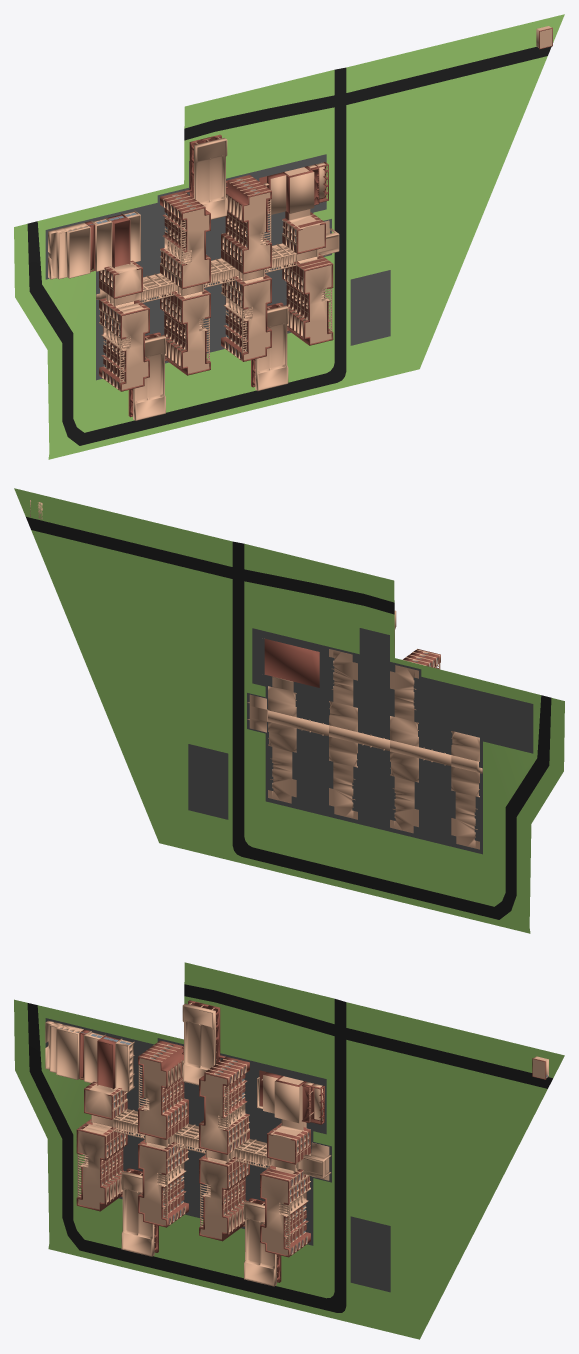
File: hall13.glb
3 renders of one model, top to bottom at view 1: azimuth 30°, elevation 25°; view 2: azimuth 150°, elevation 25°; view 3: azimuth 330°, elevation 25°, orthographic.
Visible parts, largest first — view 1: Base.002_Material.020, Base.002_Material.011, Base.002_Material.021, Base.002_Material.010, Base.002_Material.019, Base.002_Generic.002, Base.002_Generic, Base.002_Material.001, Base.002_Generic_2.002, Base.002_Material.009, Base.002_Generic_1, Base.002_Wallpaper_-_Victorian (+1 smaller); view 2: Base.002_Material.020, Base.002_Material.019, Base.002_Material.021, Base.002_Material.011, Base.002_Material.001, Base.002_Generic.003; view 3: Base.002_Material.020, Base.002_Material.011, Base.002_Material.021, Base.002_Material.010, Base.002_Material.019, Base.002_Generic.002, Base.002_Material.001, Base.002_Generic, Base.002_Generic_2.002, Base.002_Material.009, Base.002_Generic_1, Base.002_Wallpaper_-_Victorian (+2 smaller).
Part boxes in pixels (left/top/right/bottom): Base.002_Material.020: left=14, top=14, right=564, bottom=459; Base.002_Material.011: left=99, top=177, right=332, bottom=390; Base.002_Material.021: left=27, top=46, right=551, bottom=445; Base.002_Material.010: left=99, top=175, right=333, bottom=391; Base.002_Material.019: left=45, top=154, right=390, bottom=380; Base.002_Generic.002: left=132, top=137, right=288, bottom=420; Base.002_Generic: left=48, top=210, right=140, bottom=279; Base.002_Material.001: left=96, top=26, right=552, bottom=306; Base.002_Generic_2.002: left=264, top=172, right=314, bottom=214; Base.002_Material.009: left=68, top=179, right=307, bottom=387; Base.002_Generic_1: left=106, top=213, right=130, bottom=268; Base.002_Wallpaper_-_Victorian: left=128, top=134, right=289, bottom=417; Base.002_Material.020: left=14, top=488, right=564, bottom=933; Base.002_Material.019: left=188, top=628, right=533, bottom=854; Base.002_Material.021: left=26, top=517, right=551, bottom=919; Base.002_Material.011: left=268, top=649, right=479, bottom=849; Base.002_Material.001: left=30, top=500, right=482, bottom=773; Base.002_Generic.003: left=264, top=638, right=319, bottom=687; Base.002_Material.020: left=14, top=962, right=564, bottom=1339; Base.002_Material.011: left=77, top=1043, right=310, bottom=1256; Base.002_Material.021: left=27, top=984, right=552, bottom=1312; Base.002_Material.010: left=76, top=1040, right=310, bottom=1257; Base.002_Material.019: left=45, top=1018, right=390, bottom=1292; Base.002_Generic.002: left=121, top=1003, right=277, bottom=1286; Base.002_Material.001: left=91, top=1056, right=548, bottom=1180; Base.002_Generic: left=45, top=1020, right=134, bottom=1092; Base.002_Generic_2.002: left=257, top=1075, right=299, bottom=1123; Base.002_Material.009: left=60, top=1028, right=308, bottom=1253; Base.002_Generic_1: left=97, top=1035, right=120, bottom=1089; Base.002_Wallpaper_-_Victorian: left=120, top=1000, right=281, bottom=1282.
Size of the model in its own units: 0.0287 by 0.0159 by 0.002.
